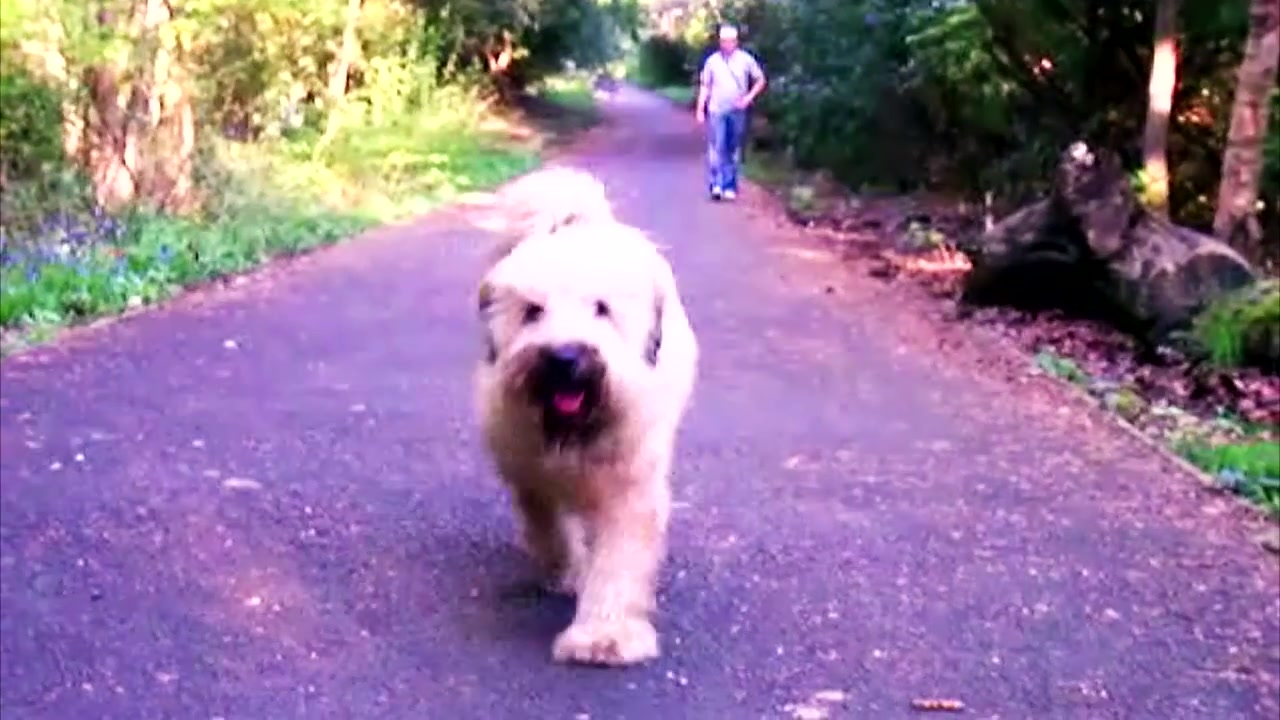dog: (459, 165, 707, 670)
